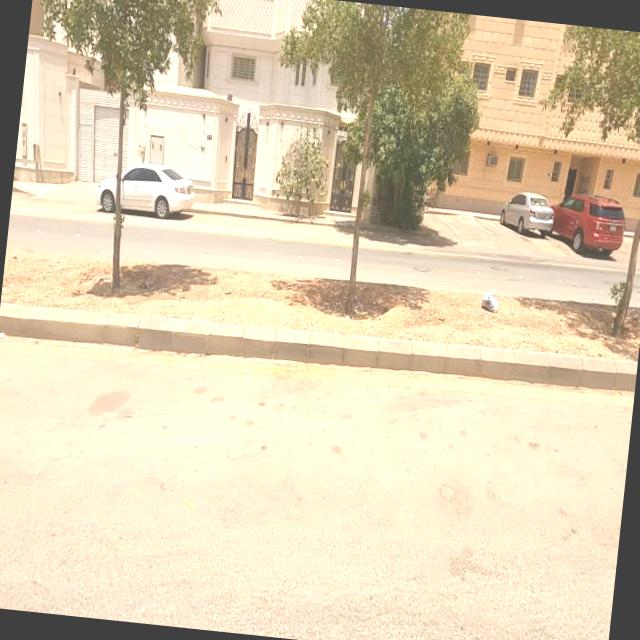debris: (442, 254, 539, 352)
